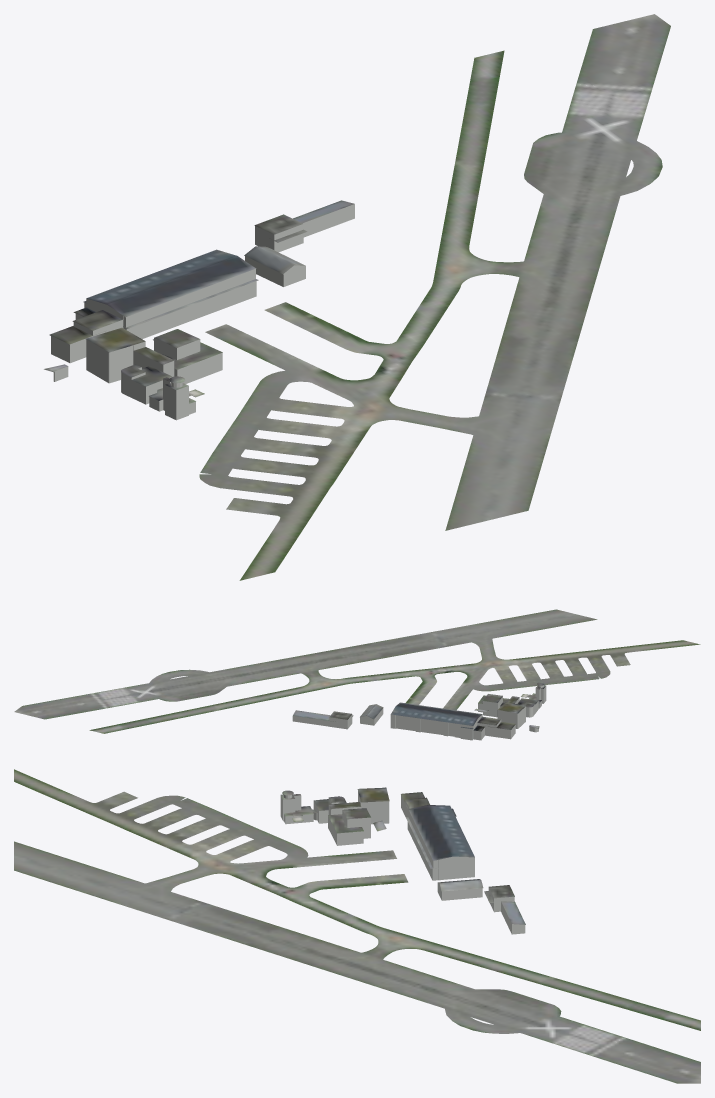
Rendered from LSME_0_1.glb.
The picture shows the model from 3 angles, top to bottom: view 1: azimuth 30°, elevation 25°; view 2: azimuth 150°, elevation 25°; view 3: azimuth 270°, elevation 25°; orthographic projection. The views are drawn at different scales.
Parts seen in each view (by area): view 1: pavement_LSME_pavement_5332_2433, building_31b2ede0b1dd61df, building_7c3b69123bf74542, building_933b82829938b309, building_286e05afccdf240c, building_6d0d0e283d26426f, building_2260c821d02f0e14, pavement_LSME_pavement_5331_2433; view 2: pavement_LSME_pavement_5332_2433, building_933b82829938b309, building_31b2ede0b1dd61df, building_7c3b69123bf74542, building_286e05afccdf240c, building_6d0d0e283d26426f, building_2260c821d02f0e14, pavement_LSME_pavement_5331_2433; view 3: pavement_LSME_pavement_5332_2433, building_31b2ede0b1dd61df, building_7c3b69123bf74542, building_286e05afccdf240c, building_933b82829938b309, building_2260c821d02f0e14, pavement_LSME_pavement_5331_2433.
Boxes of the visible parts, box(x1,y1,x2,y2) form: pavement_LSME_pavement_5332_2433: box(199, 14, 670, 553); building_31b2ede0b1dd61df: box(44, 249, 258, 372); building_7c3b69123bf74542: box(86, 338, 222, 420); building_933b82829938b309: box(51, 269, 256, 381); building_286e05afccdf240c: box(86, 327, 222, 404); building_6d0d0e283d26426f: box(255, 204, 354, 252); building_2260c821d02f0e14: box(254, 200, 354, 242); pavement_LSME_pavement_5331_2433: box(226, 509, 287, 580); pavement_LSME_pavement_5332_2433: box(14, 609, 660, 733); building_933b82829938b309: box(390, 714, 538, 740); building_31b2ede0b1dd61df: box(390, 702, 539, 731); building_7c3b69123bf74542: box(478, 685, 546, 728); building_286e05afccdf240c: box(478, 682, 546, 713); building_6d0d0e283d26426f: box(292, 715, 352, 729); building_2260c821d02f0e14: box(293, 710, 353, 722); pavement_LSME_pavement_5331_2433: box(651, 640, 700, 649); pavement_LSME_pavement_5332_2433: box(14, 792, 700, 1083); building_31b2ede0b1dd61df: box(373, 787, 474, 868); building_7c3b69123bf74542: box(280, 791, 389, 845); building_286e05afccdf240c: box(281, 787, 389, 833); building_933b82829938b309: box(401, 795, 474, 880); building_2260c821d02f0e14: box(484, 885, 525, 924); pavement_LSME_pavement_5331_2433: box(14, 769, 124, 791).
Size of the model in its own units: 539 by 21.28 by 500.
3 materials, 2 textured.
